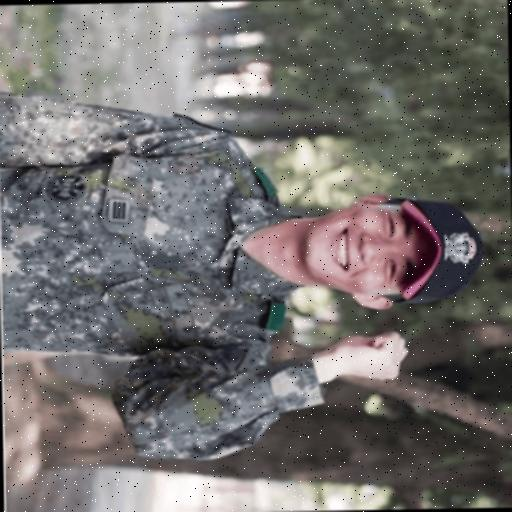korea army: (0, 81, 486, 463)
